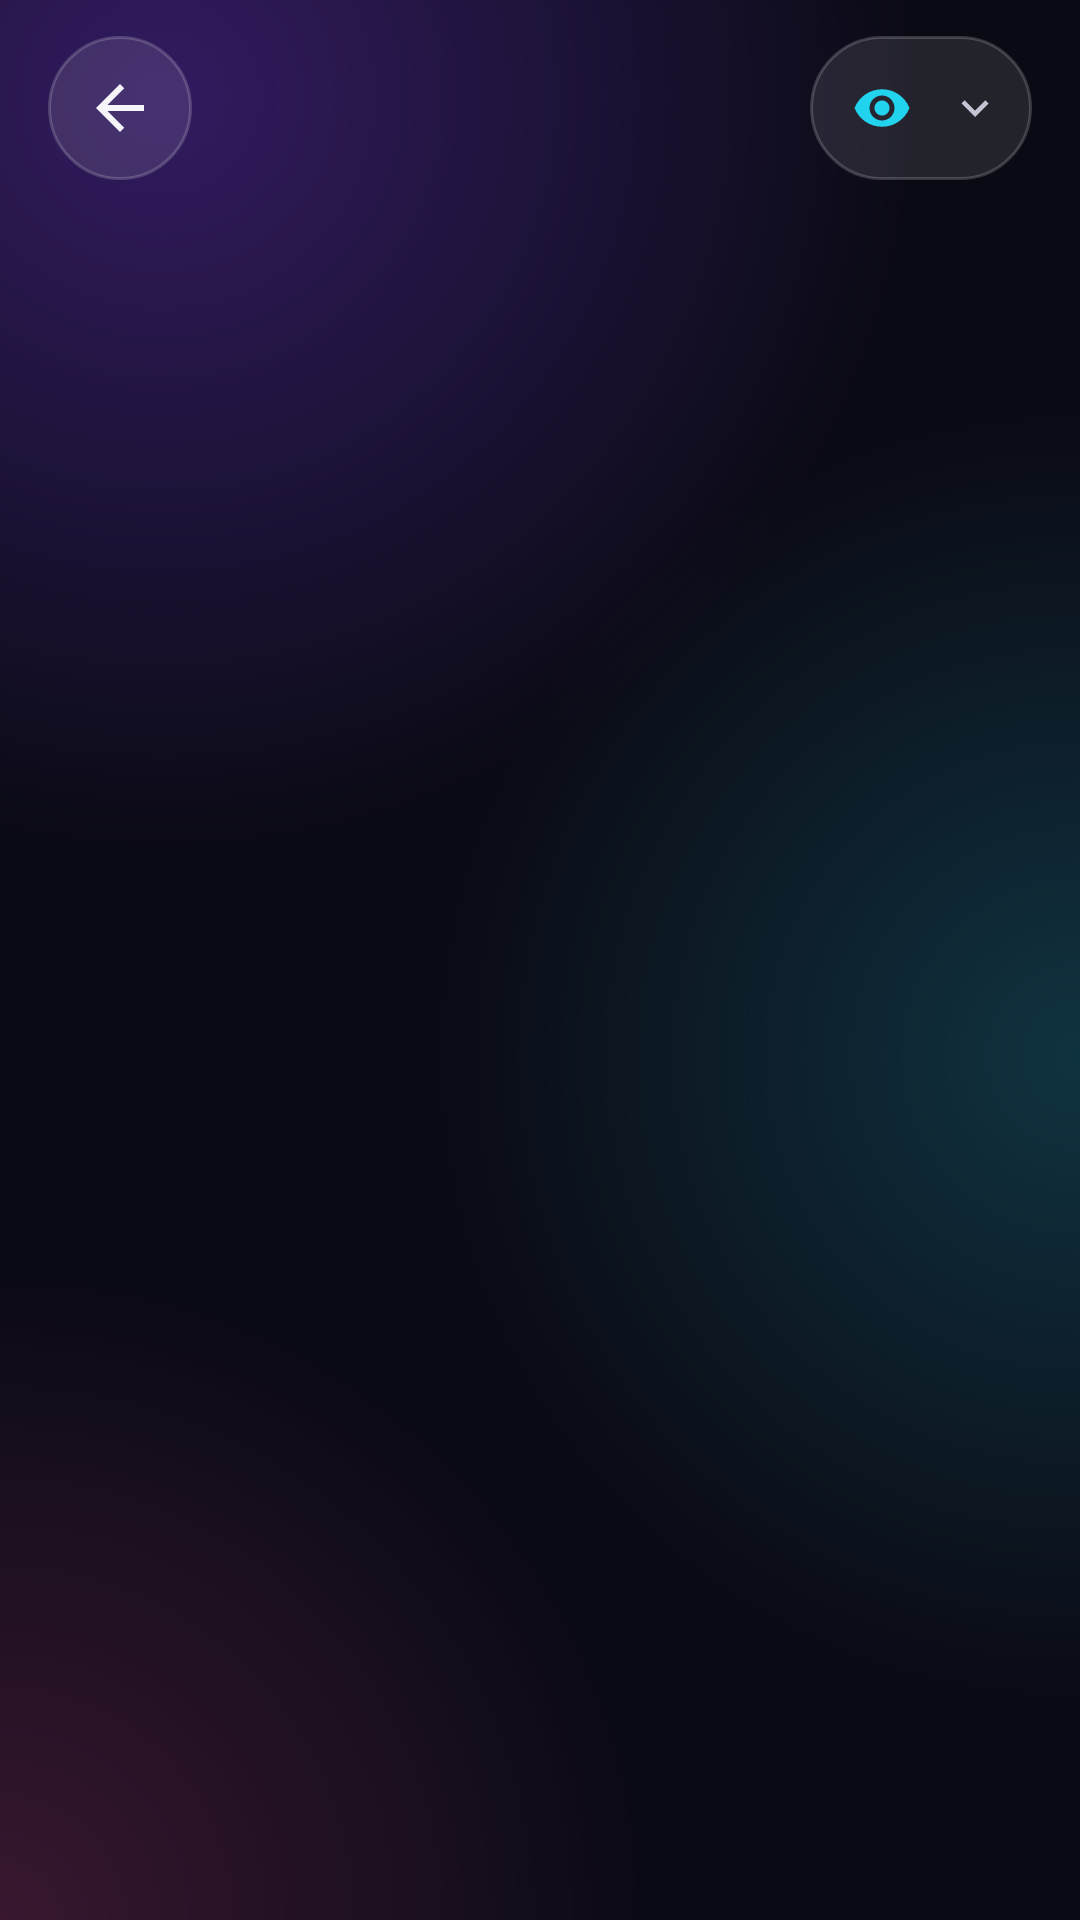

Where icons sit on this 1080 × 1920 app screen, as BBox(x1, y1, x2, y2):
expand more: BBox(961, 100, 989, 117)
eye: BBox(854, 89, 910, 127)
Volver: BBox(48, 36, 192, 180)
